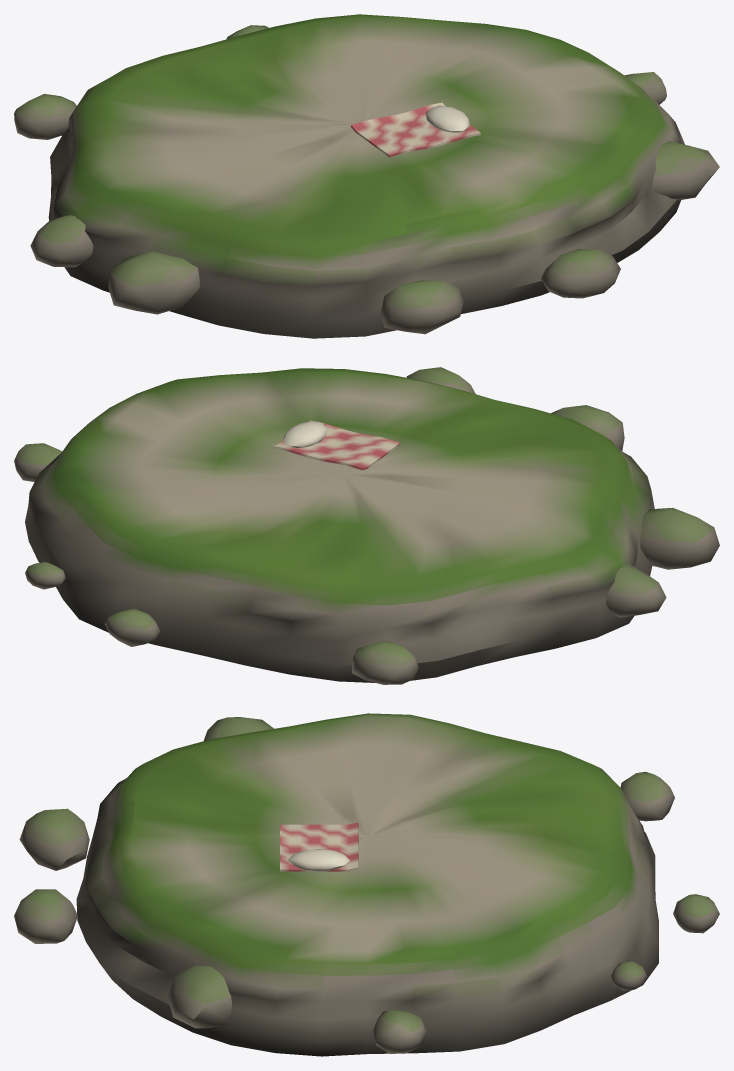
File: sunbeam_rock.glb
3 views of the same model, one above another, from view 1: azimuth 30°, elevation 25°; view 2: azimuth 150°, elevation 25°; view 3: azimuth 270°, elevation 25° (orthographic). The views are drawn at different scales.
Parts seen in each view (by area): view 1: sunbeam_rock; view 2: sunbeam_rock; view 3: sunbeam_rock.
Part boxes in pixels (<box>): sunbeam_rock: <box>14,14,719,338</box>; sunbeam_rock: <box>14,367,719,684</box>; sunbeam_rock: <box>14,713,719,1056</box>.
Bounding box in the file's own units: 11.99 × 1.71 × 11.23.
